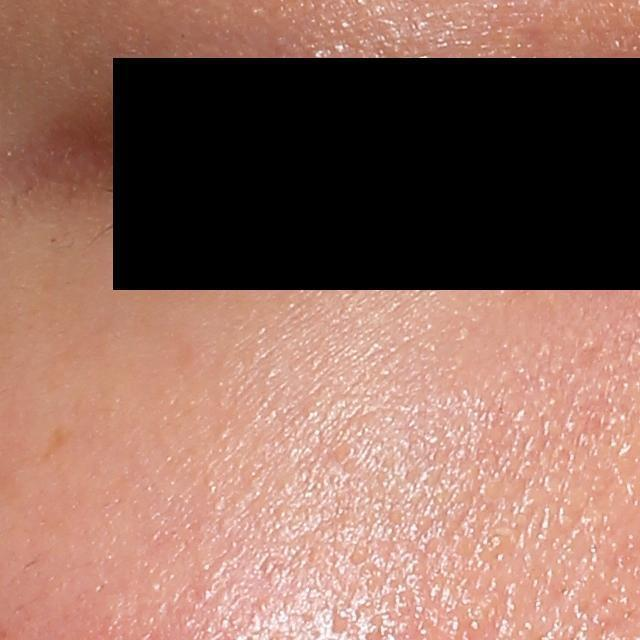melasma: (43, 425, 67, 462)
